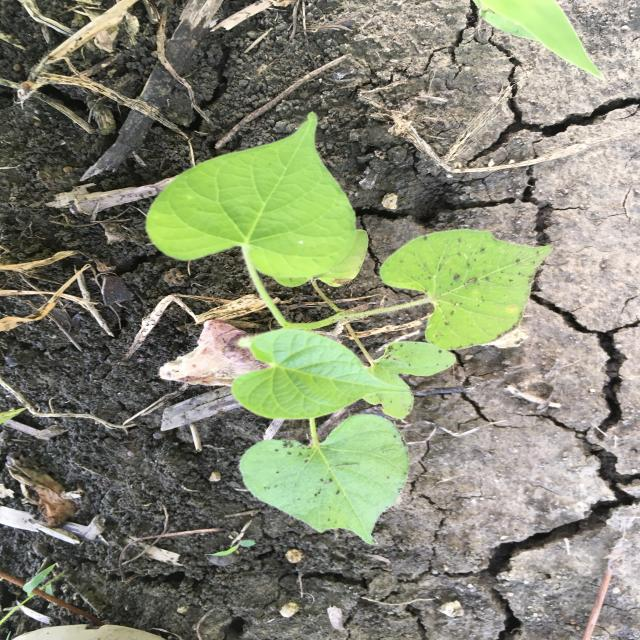MorningGlory: (144, 109, 557, 549)
